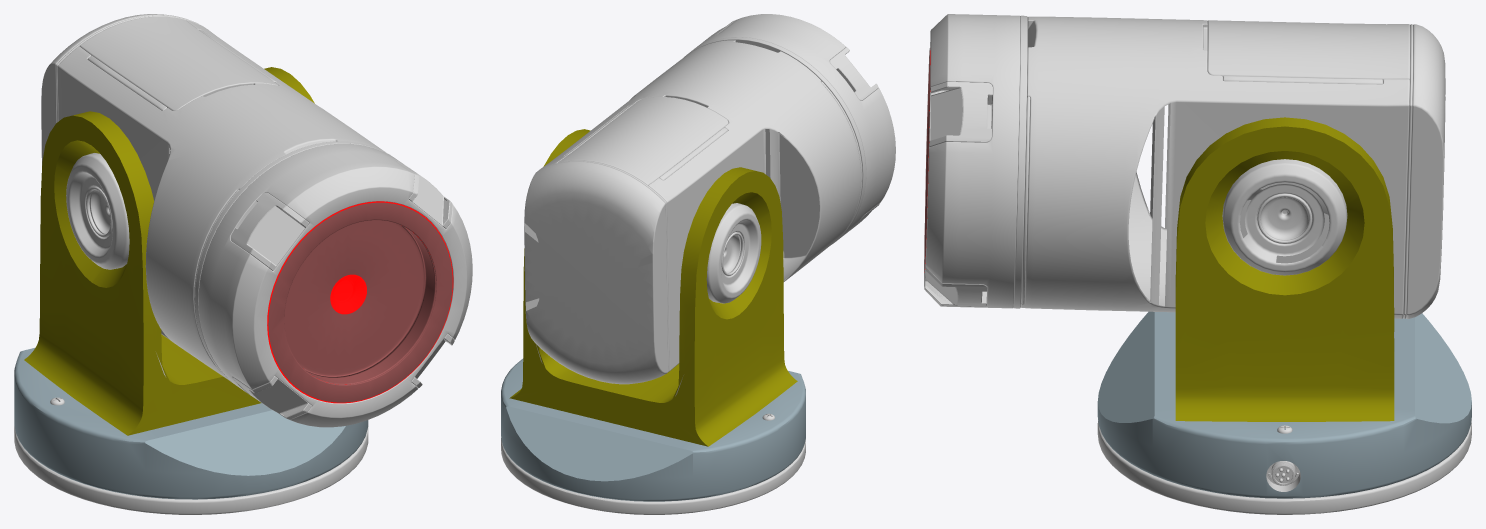
The model's file is Modle.fbx.
3 renders of one model, left to right at view 1: azimuth 30°, elevation 25°; view 2: azimuth 150°, elevation 25°; view 3: azimuth 270°, elevation 25°, orthographic. The views are drawn at different scales.
Visible parts, largest first — view 1: light_1_001_low_001, light_1_003_low_001, light_1_007_low_001, light_1_005_low_001, light_1_012_low_001, light_1_004_low_001, light_1_010_low_001, light_1_002_low_001, light_1_008_low_001, light_1_006_low_001, light_1_013_low_001; view 2: light_1_001_low_001, light_1_008_low_001, light_1_003_low_001, light_1_005_low_001, light_1_012_low_001, light_1_006_low_001, light_1_010_low_001, light_1_002_low_001, light_1_004_low_001, light_1_013_low_001, light_1_009_low_001; view 3: light_1_001_low_001, light_1_003_low_001, light_1_005_low_001, light_1_012_low_001, light_1_002_low_001, light_1_008_low_001, light_1_010_low_001, light_1_004_low_001, light_1_006_low_001, light_1_009_low_001, light_1_013_low_001, light_1_low_001 (+1 smaller).
Part boxes in pixels (<box>): light_1_001_low_001: <box>14,67,368,499</box>; light_1_003_low_001: <box>57,20,385,380</box>; light_1_007_low_001: <box>267,201,453,403</box>; light_1_005_low_001: <box>198,143,472,427</box>; light_1_012_low_001: <box>79,16,278,110</box>; light_1_004_low_001: <box>230,161,454,419</box>; light_1_010_low_001: <box>14,426,368,514</box>; light_1_002_low_001: <box>66,148,170,269</box>; light_1_008_low_001: <box>41,14,203,165</box>; light_1_006_low_001: <box>195,141,391,384</box>; light_1_013_low_001: <box>87,29,276,110</box>; light_1_001_low_001: <box>501,129,805,501</box>; light_1_008_low_001: <box>524,161,668,384</box>; light_1_003_low_001: <box>539,40,861,371</box>; light_1_005_low_001: <box>691,14,895,238</box>; light_1_012_low_001: <box>558,97,728,185</box>; light_1_006_low_001: <box>683,37,866,257</box>; light_1_010_low_001: <box>501,438,805,514</box>; light_1_002_low_001: <box>706,203,761,303</box>; light_1_004_low_001: <box>702,20,879,230</box>; light_1_013_low_001: <box>565,105,727,180</box>; light_1_009_low_001: <box>538,160,669,372</box>; light_1_001_low_001: <box>1097,117,1471,498</box>; light_1_003_low_001: <box>1020,16,1409,318</box>; light_1_005_low_001: <box>924,14,1020,308</box>; light_1_012_low_001: <box>1207,20,1410,318</box>; light_1_002_low_001: <box>1222,159,1347,275</box>; light_1_008_low_001: <box>1406,24,1445,318</box>; light_1_010_low_001: <box>1097,420,1471,514</box>; light_1_004_low_001: <box>924,50,992,306</box>; light_1_006_low_001: <box>1013,15,1027,308</box>; light_1_009_low_001: <box>1403,24,1413,318</box>; light_1_013_low_001: <box>1223,76,1382,84</box>; light_1_low_001: <box>1021,96,1030,303</box>.
Size of the model in its own units: 63.43 by 76.55 by 92.88.
